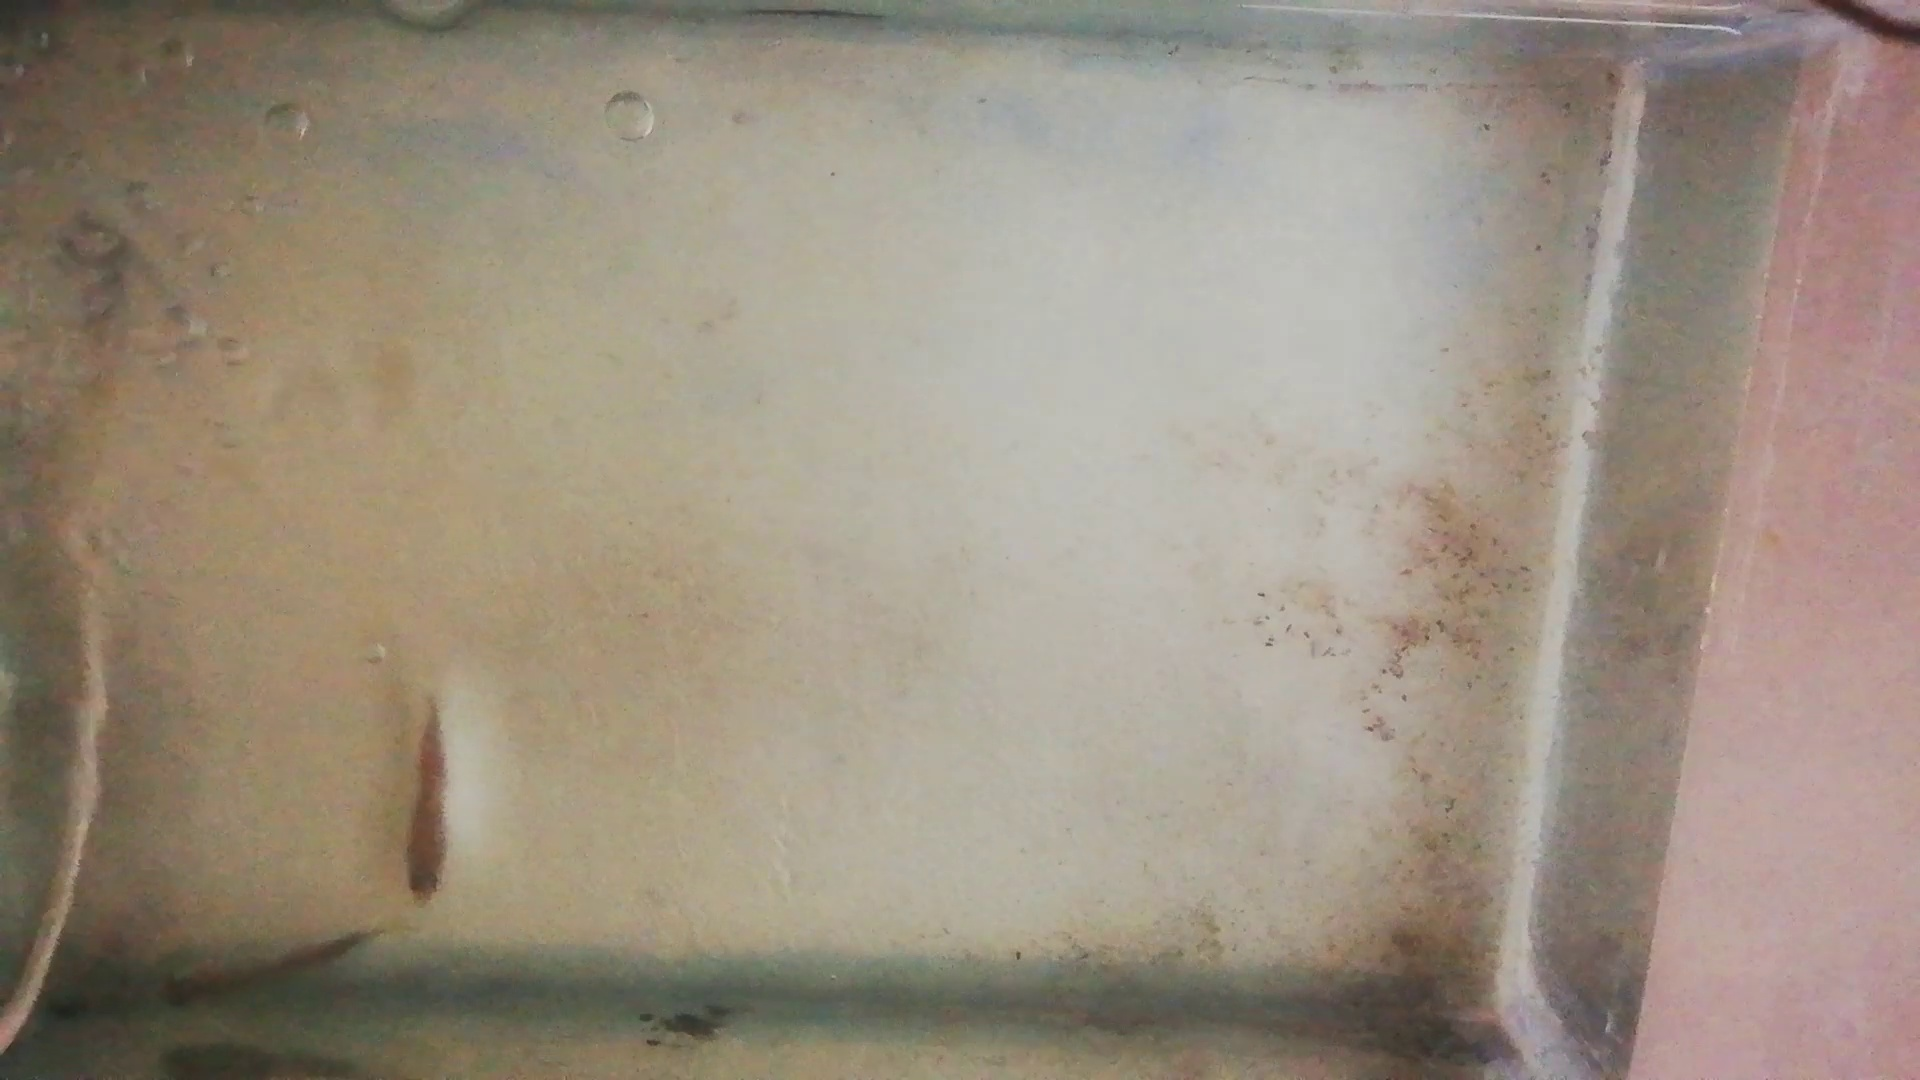fish: (164, 928, 372, 1005), (404, 698, 454, 905)
